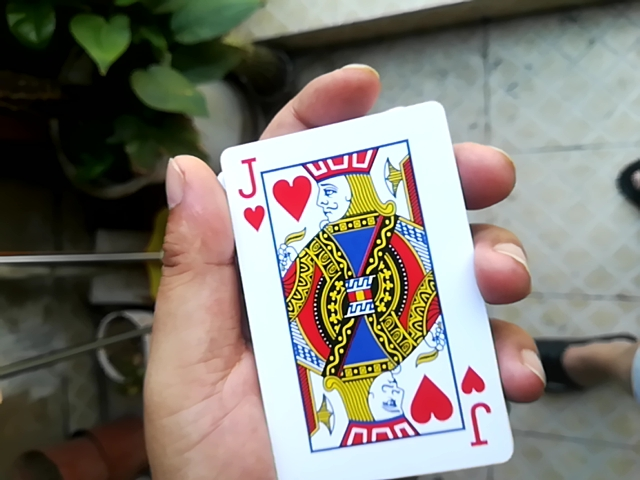hx j: (192, 93, 493, 474)
